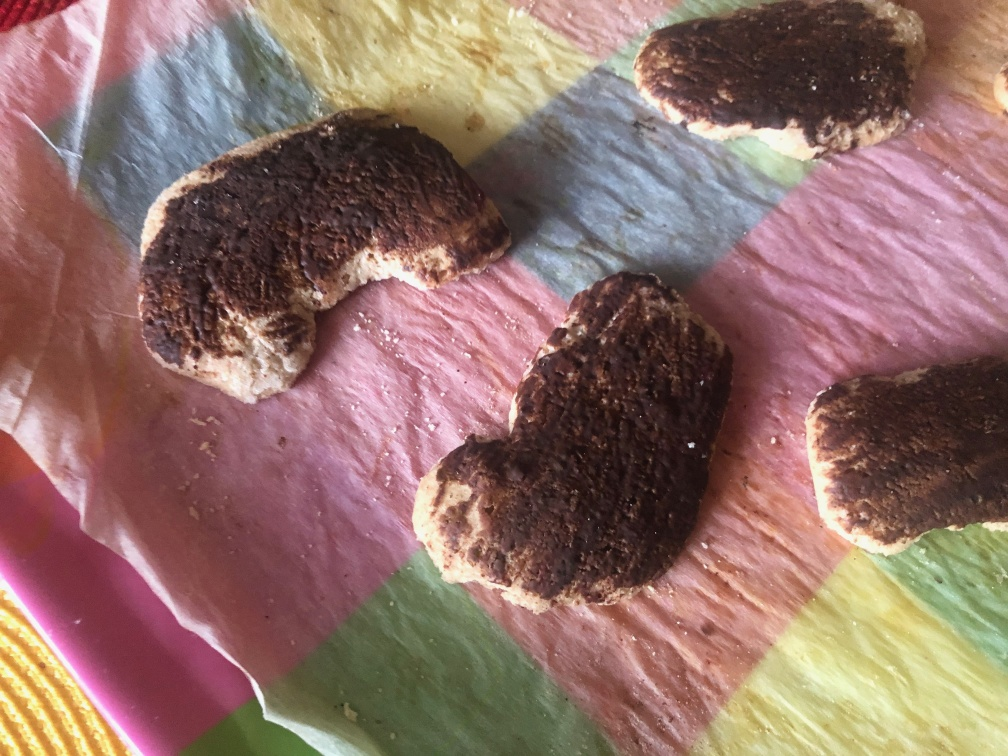weird #1: (126, 99, 509, 414), (405, 265, 736, 612), (631, 2, 926, 157), (806, 350, 1008, 547)
